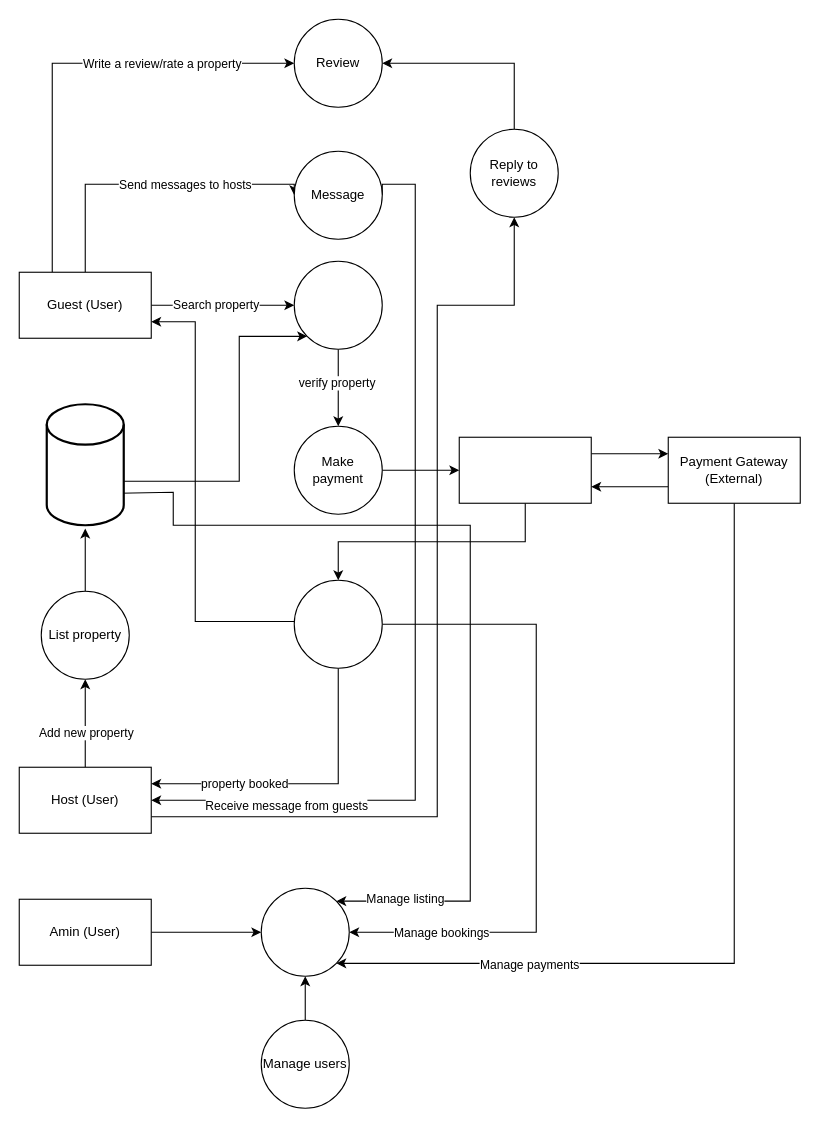
This 820x1128 diagram has some shape labels left out. The shapes that lost their labels are listed below. From the top down, each one's centre as x and y in pixels, then its label:
point 337,304: Book property
point 84,464: Properties database
point 524,469: Airbnb Clone Backend System
point 337,623: Payment notification
point 304,931: Admin dashboard
